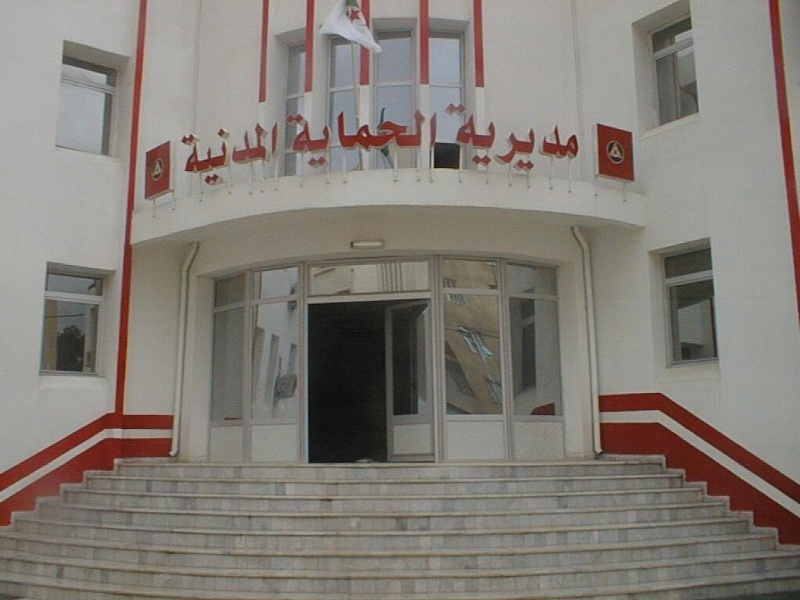text: (193, 114, 208, 193), (209, 114, 224, 193), (225, 114, 240, 193), (241, 114, 256, 193), (257, 114, 272, 193), (273, 114, 288, 193), (449, 101, 464, 179), (465, 101, 480, 179), (481, 101, 496, 179), (497, 101, 512, 179), (513, 101, 528, 179), (529, 101, 544, 179), (545, 101, 560, 179), (561, 101, 576, 179), (180, 114, 192, 193), (289, 110, 304, 170), (305, 110, 320, 170), (321, 110, 336, 170), (337, 110, 352, 170), (353, 110, 368, 170), (369, 110, 384, 170), (385, 110, 400, 170), (401, 110, 416, 170), (417, 110, 432, 170), (433, 110, 440, 170), (577, 101, 581, 179), (284, 110, 288, 170), (446, 101, 448, 179)
